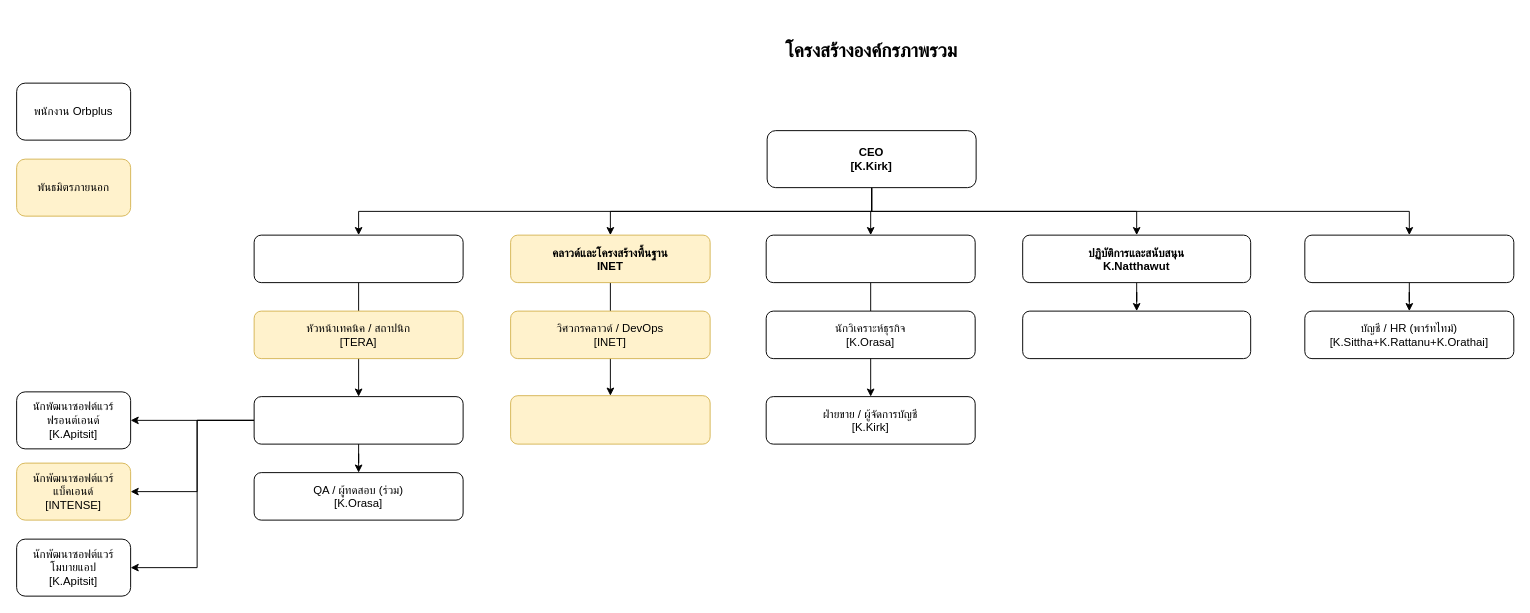
The diagram is 1530 pixels wide and 613 high, and some of its shapes have lost their labels. Each missing label, with the centre of its shape:
การเงินและธุรการ K.Rath: (x=1409, y=258)
นักพัฒนาซอฟต์แวร์ [K.Kirk]: (x=358, y=420)
ผลิตภัณฑ์และเทคโนโลยี K.Natthawut: (x=358, y=258)
ผู้ดูแลฐานข้อมูล (ร่วม) [K.Natthawut+INET]: (x=610, y=419)
ฝ่ายสนับสนุนลูกค้า [K.Apitsit]: (x=1136, y=334)
ลูกค้าและขาย K.Kirk: (x=870, y=258)
